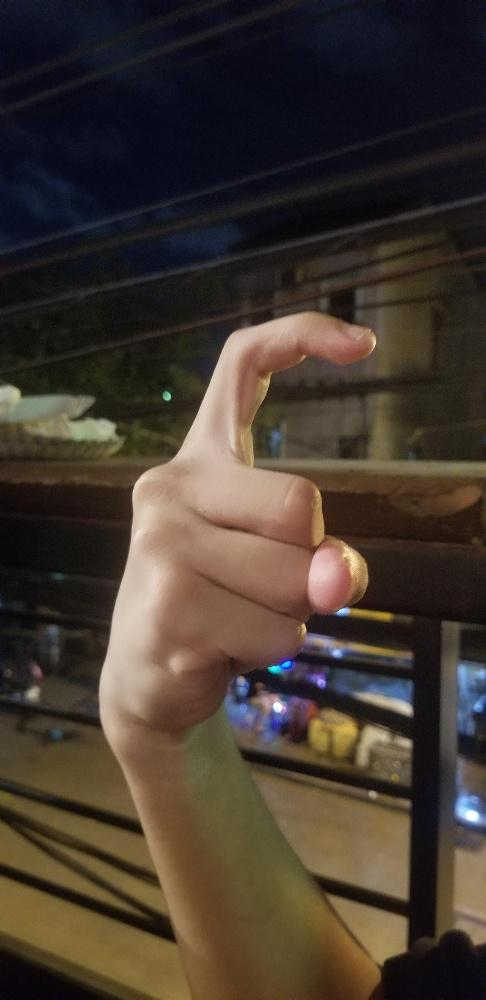x: (97, 308, 378, 740)
